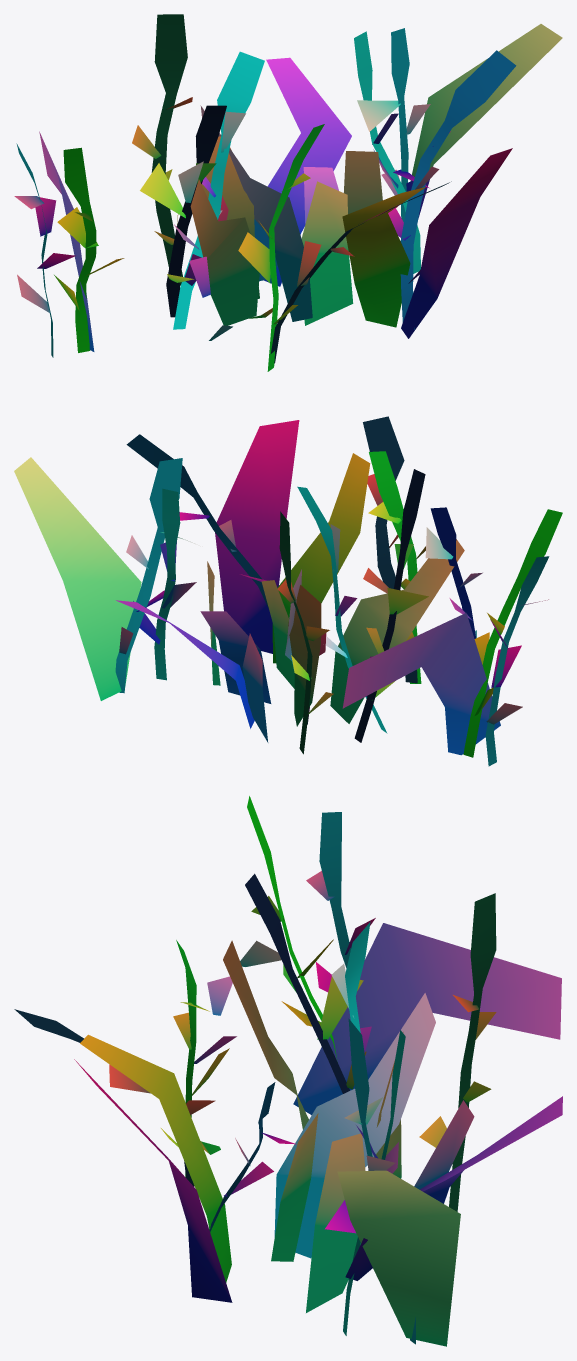
File: Matted_Pratia_uegjcflia_Mid_uegjcflia_VarD_LOD1.fbx
3 renders of one model, top to bottom at view 1: azimuth 30°, elevation 25°; view 2: azimuth 150°, elevation 25°; view 3: azimuth 270°, elevation 25°, orthographic. The views are drawn at different scales.
Parts seen in each view (by area): view 1: _f9ac_VarD_LOD2; view 2: _f9ac_VarD_LOD2; view 3: _f9ac_VarD_LOD2.
Part boxes in pixels (x1,y1,x2,y2): _f9ac_VarD_LOD2: [14, 14, 562, 371]; _f9ac_VarD_LOD2: [14, 416, 562, 766]; _f9ac_VarD_LOD2: [14, 796, 562, 1346].
Bounding box in the file's own units: 16.61 × 7.75 × 11.62.
